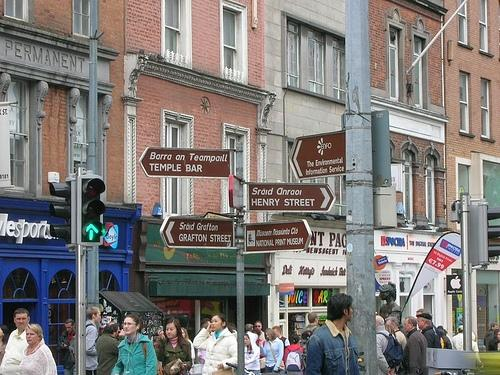apple: (450, 276, 462, 289)
